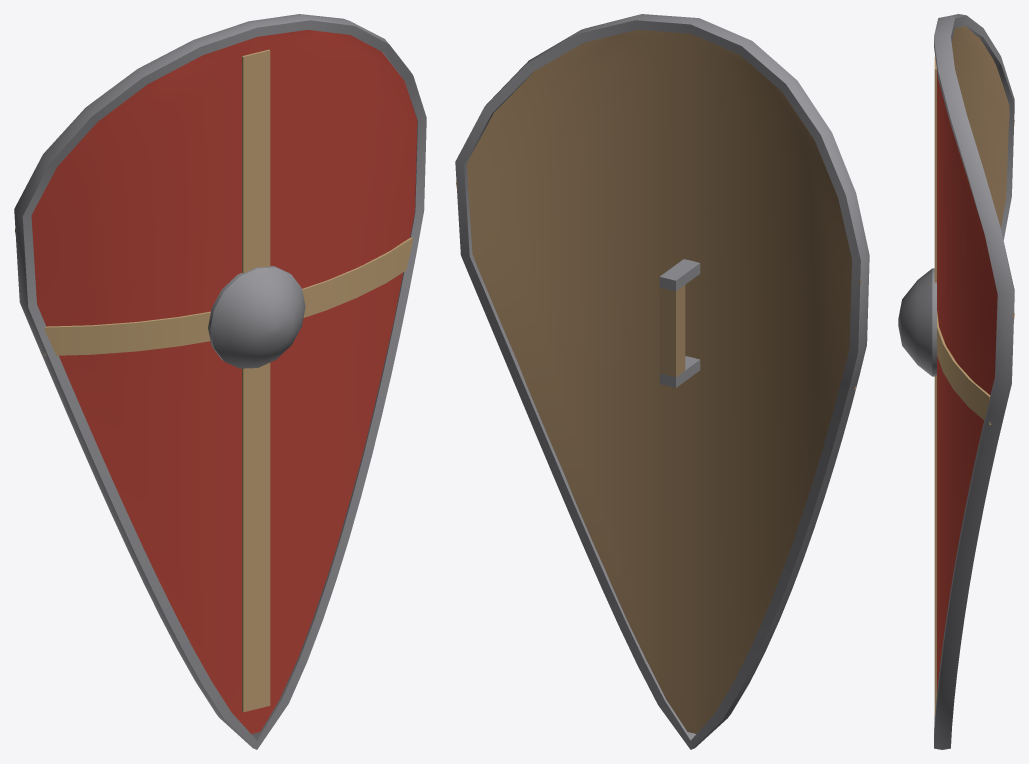
The model's file is kite.glb.
The picture shows the model from 3 angles, left to right: view 1: azimuth 30°, elevation 25°; view 2: azimuth 150°, elevation 25°; view 3: azimuth 270°, elevation 25°; orthographic projection.
Parts seen in each view (by area): view 1: OUT; view 2: OUT; view 3: OUT.
Boxes of the visible parts, x1,y1,x2,y2 form: OUT: (14,14,426,749); OUT: (455,14,869,749); OUT: (898,14,1014,749).
Size of the model in its own units: 0.5974 by 1.02 by 0.1505.
